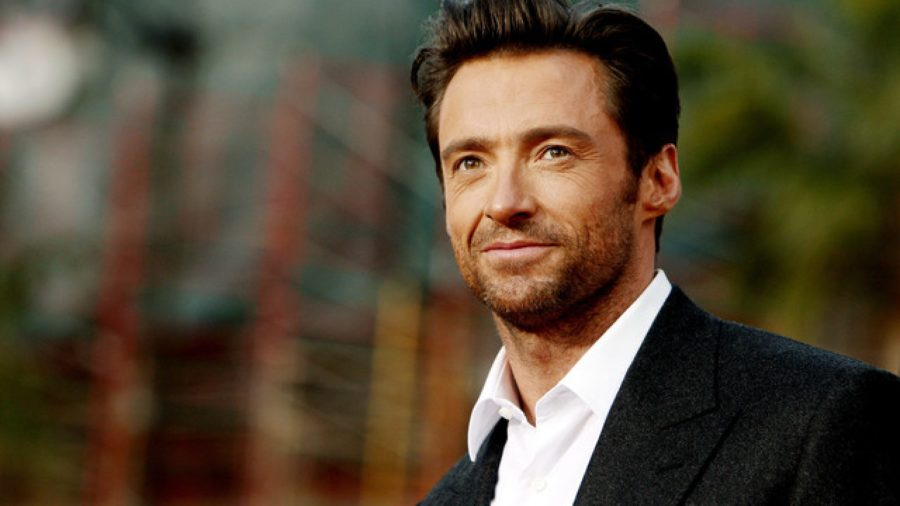person: (378, 1, 900, 505)
